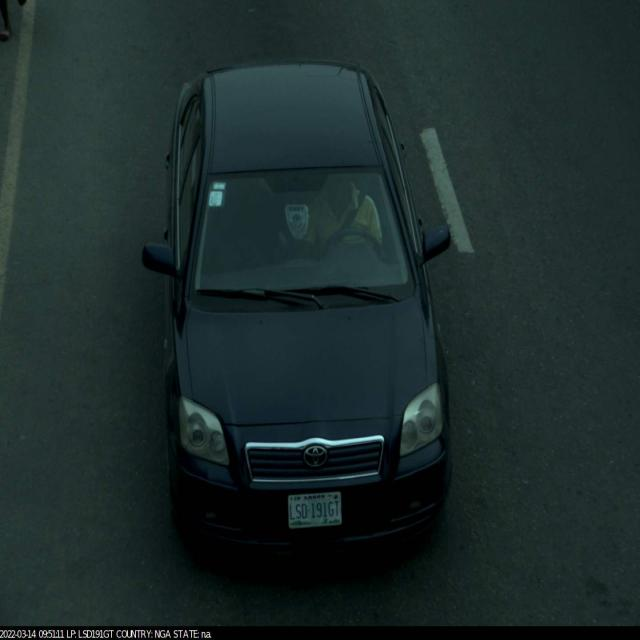windshield: (185, 156, 422, 314)
